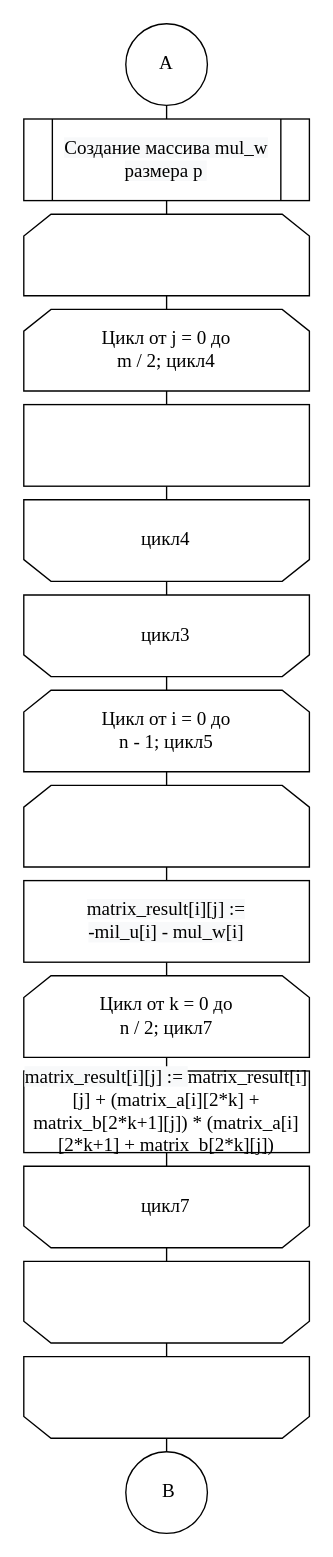
Image size: 333x1557. Some labels were removed from this diagram. The shapes that lost their labels are listed below. From the top down, each one's centre as x and y in pixels, then its label:
the point at 165,254: Цикл от i = 0 до p - 1; цикл3
the point at 165,444: mul_w[i] := mul_w[i] + matrix_b[2*j][i] + matrix_b[2*j+1][i]
the point at 165,825: Цикл от j = 0 до p - 1; цикл6
the point at 165,1301: цикл6
the point at 165,1396: цикл5
